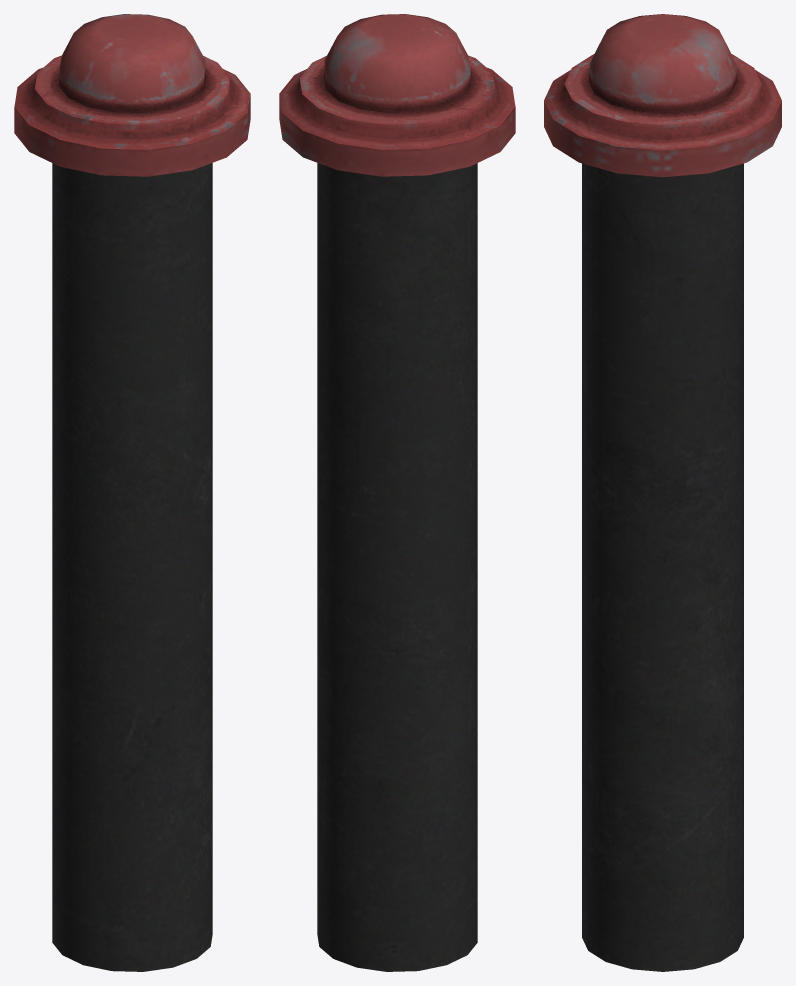
The model's file is Column_01.fbx.
The picture shows the model from 3 angles, left to right: view 1: azimuth 30°, elevation 25°; view 2: azimuth 150°, elevation 25°; view 3: azimuth 270°, elevation 25°; orthographic projection.
Parts seen in each view (by area): view 1: Column_01_LOD0; view 2: Column_01_LOD0; view 3: Column_01_LOD0.
Boxes of the visible parts, <box> form: Column_01_LOD0: <box>14,14,250,971</box>; Column_01_LOD0: <box>279,14,515,971</box>; Column_01_LOD0: <box>544,14,781,971</box>.
Size of what is drawn, in the model's own units: 15.46 by 65.13 by 15.46.
